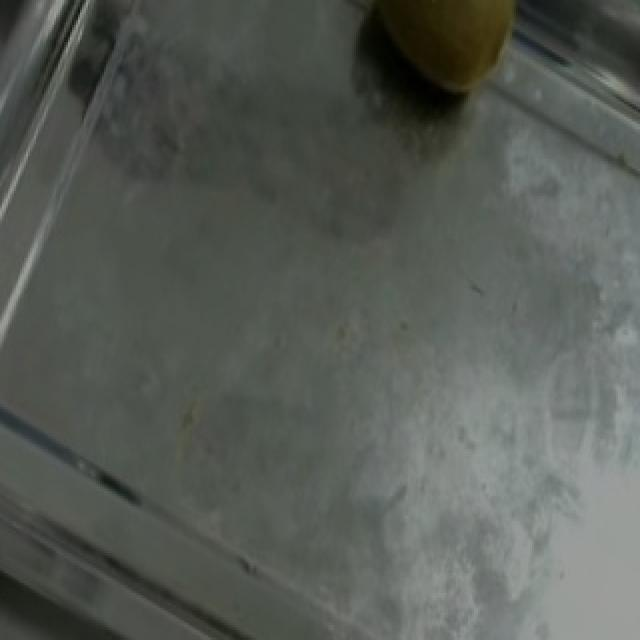Fruit: (340, 0, 554, 134)
